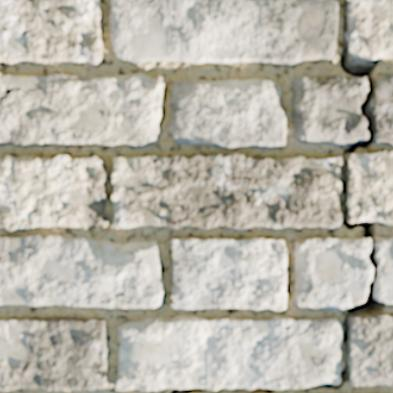brick: (112, 153, 342, 228), (117, 316, 342, 390), (112, 0, 338, 64), (0, 234, 164, 307), (0, 75, 163, 148), (172, 238, 286, 309), (171, 79, 285, 148), (0, 156, 106, 230), (0, 319, 107, 390), (0, 0, 101, 64), (347, 152, 392, 224), (349, 315, 392, 384), (346, 0, 392, 60)
broken_brick: (293, 238, 372, 310), (291, 75, 367, 147), (372, 73, 392, 146), (376, 236, 392, 301)
crack: (308, 2, 392, 390), (94, 363, 107, 382), (236, 387, 277, 392), (283, 319, 300, 331), (170, 387, 208, 392), (83, 320, 103, 326), (171, 298, 176, 309), (218, 387, 225, 390)
